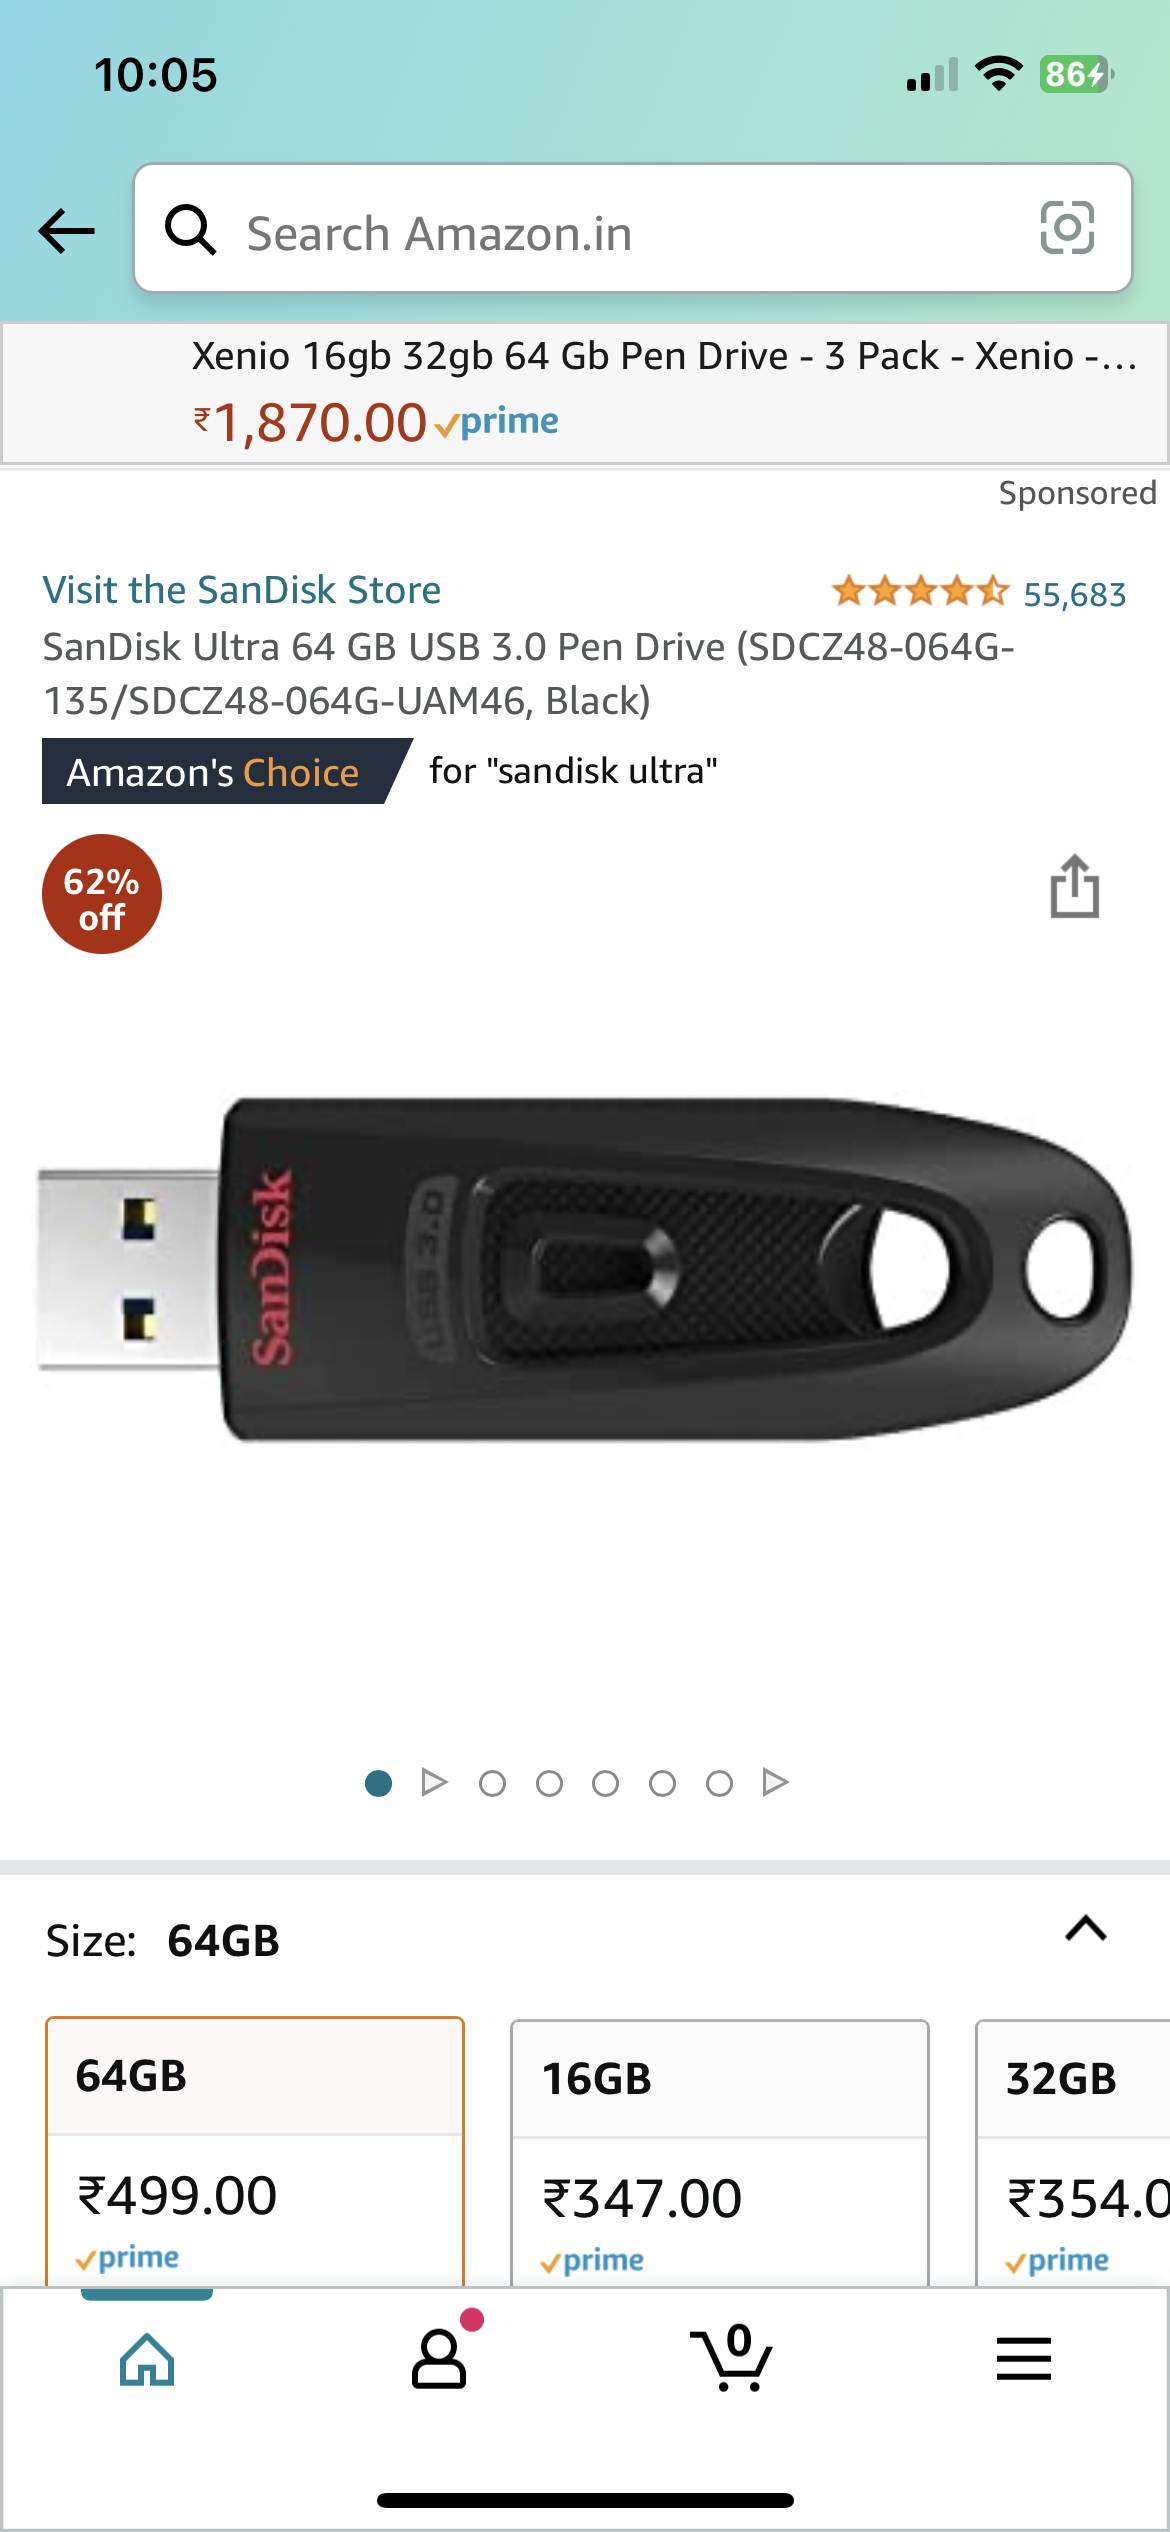PenDrive: (32, 1096, 1139, 1447)
